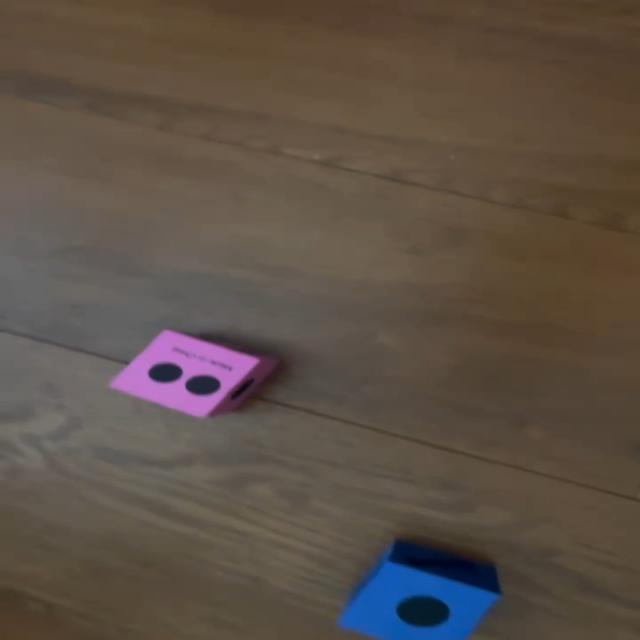blue_block: (338, 538, 500, 640)
